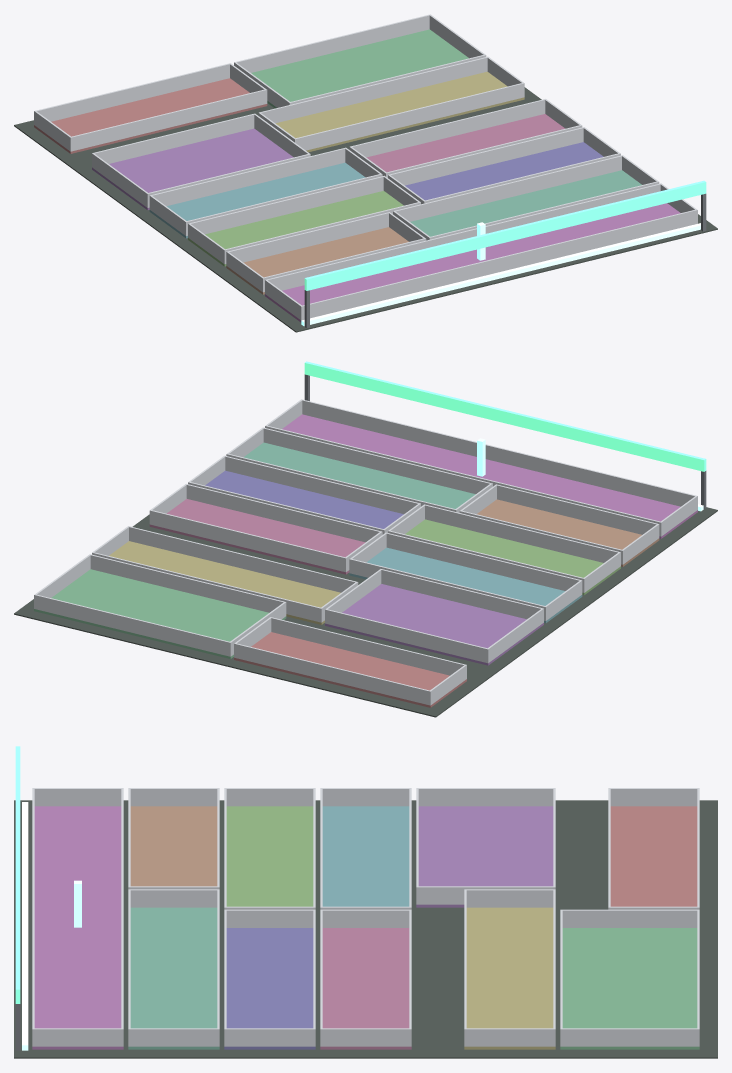
The model's file is hall-site-safety.glb.
3 views of the same model, one above another, from view 1: azimuth 30°, elevation 25°; view 2: azimuth 150°, elevation 25°; view 3: azimuth 270°, elevation 25° (orthographic). The views are drawn at different scales.
Parts seen in each view (by area): view 1: Site Safety Coordinators; view 2: Site Safety Coordinators; view 3: Site Safety Coordinators.
Boxes of the visible parts, box(x1,y1,x2,y2) form: Site Safety Coordinators: box(14, 14, 717, 332); Site Safety Coordinators: box(14, 361, 717, 717); Site Safety Coordinators: box(14, 746, 717, 1058).
Bounding box in the file's own units: 38 × 4.3 × 44.
